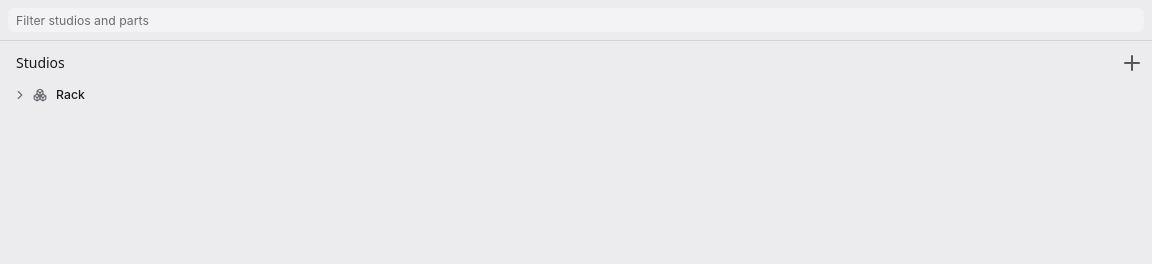
Test: subassembly tree › keeps multiple assembly exports in separate groups
This screenshot has width=1152, height=264.
Click the button named "Expand Rack" at point(20, 95), box [10,85,30,105]
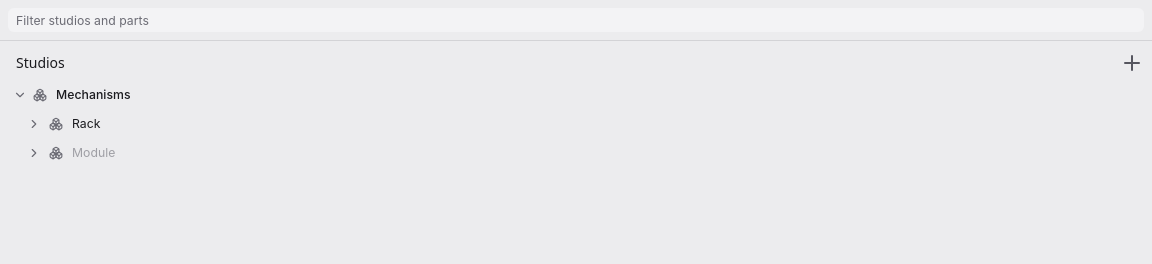
Click the button named "Expand Rack" at point(34, 124), box [24,114,44,134]
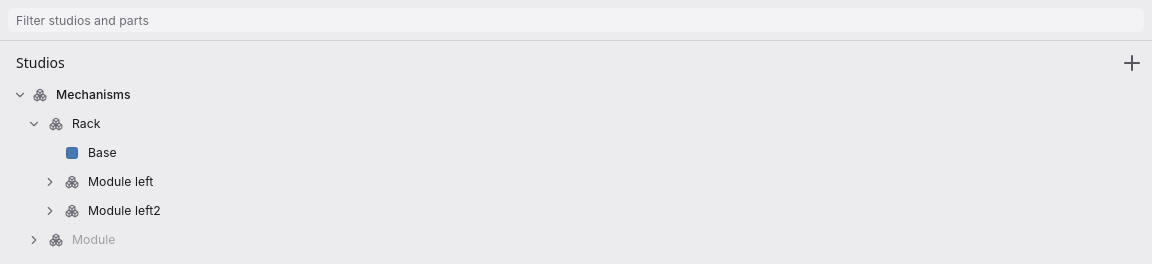
Expected: the list item "Module left" is shown, [8,168,1144,196]
